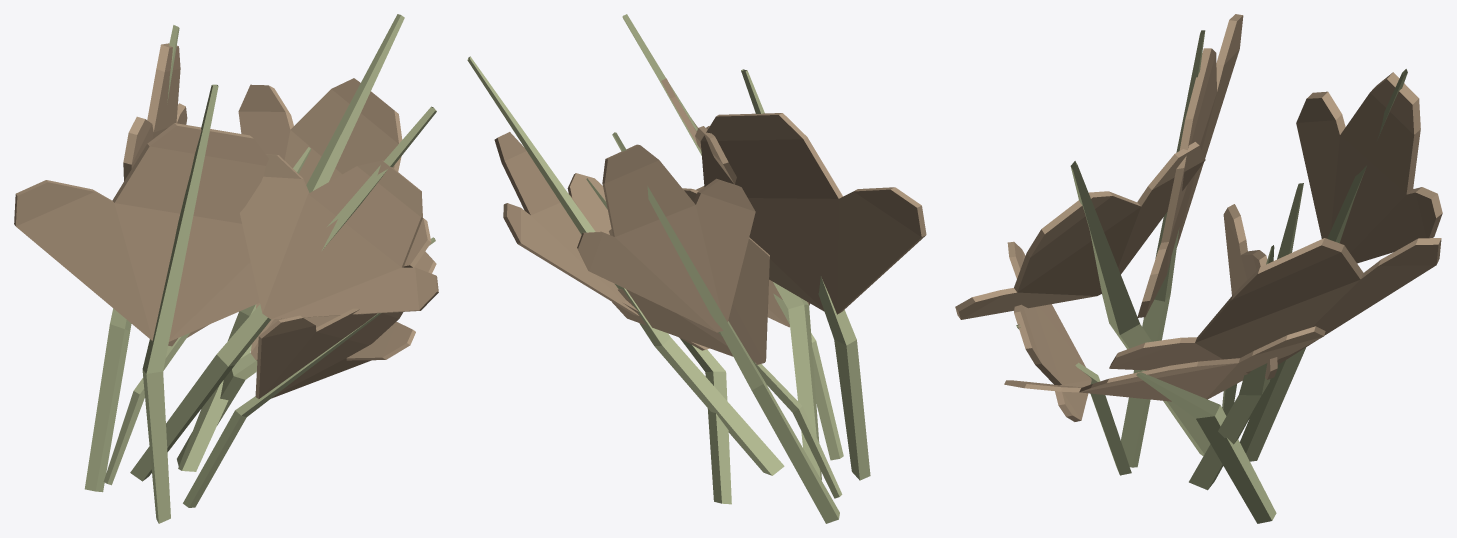
The model's file is Carrot_Dry_2.fbx.
3 renders of one model, left to right at view 1: azimuth 30°, elevation 25°; view 2: azimuth 150°, elevation 25°; view 3: azimuth 270°, elevation 25°, orthographic. The views are drawn at different scales.
Parts seen in each view (by area): view 1: 2_Dry_Carrot; view 2: 2_Dry_Carrot; view 3: 2_Dry_Carrot.
Part boxes in pixels (bbox=[...]): 2_Dry_Carrot: bbox=[14, 14, 438, 523]; 2_Dry_Carrot: bbox=[467, 14, 926, 523]; 2_Dry_Carrot: bbox=[955, 14, 1442, 523].
Size of the model in its own units: 9.53 by 8.76 by 7.84.
